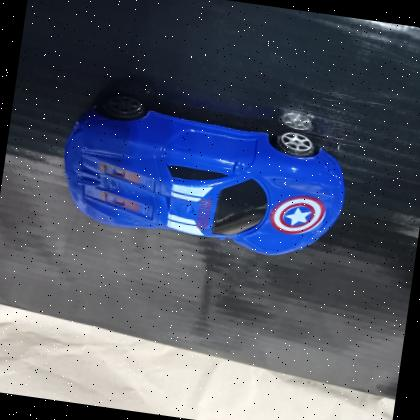Car: (64, 92, 346, 255)
